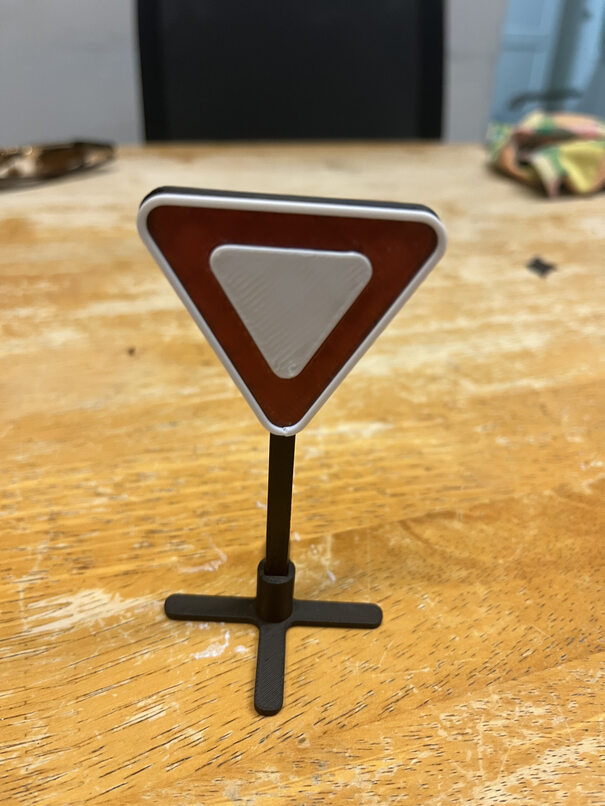sign_yield: (136, 183, 454, 437)
